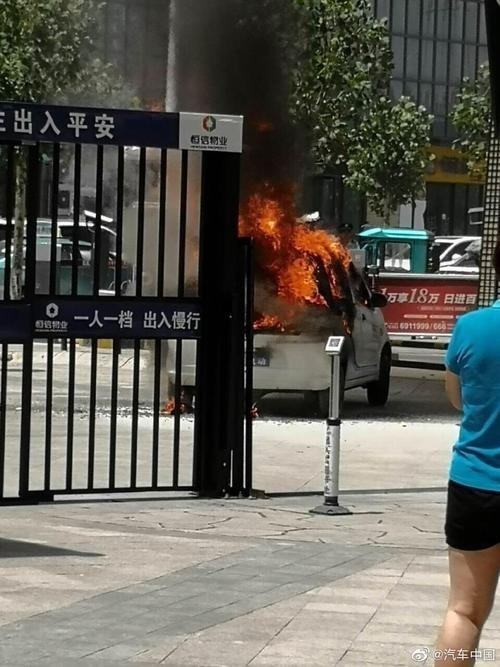fire: (244, 188, 352, 316)
